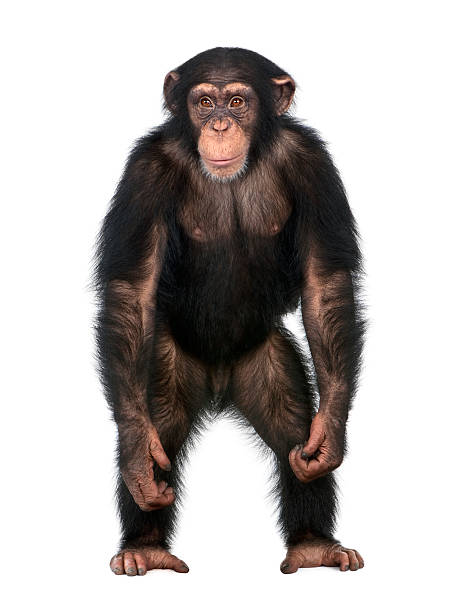chimpanzee: (100, 27, 310, 217)
